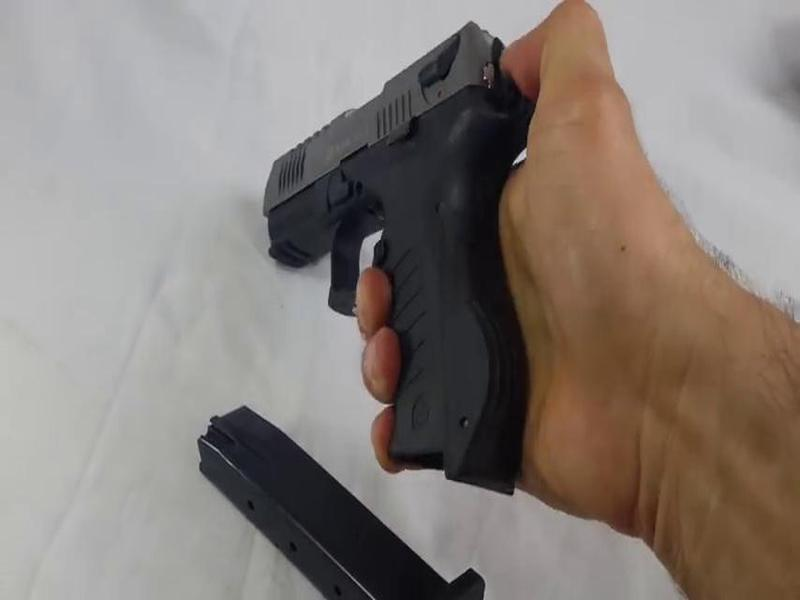Pistola: (238, 16, 525, 467)
